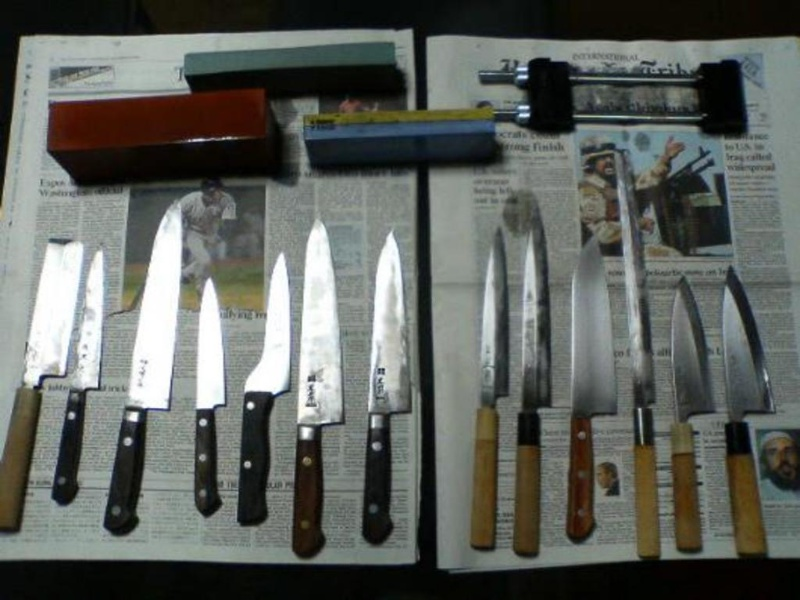knife: (98, 198, 189, 541), (1, 235, 87, 528), (614, 142, 664, 558), (293, 216, 347, 563), (719, 266, 777, 564), (359, 230, 413, 549), (566, 230, 619, 540), (234, 251, 291, 525), (51, 241, 109, 505), (666, 269, 714, 555), (474, 225, 513, 557), (517, 208, 552, 558), (187, 275, 229, 527)
